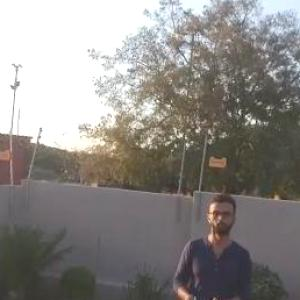follow: (158, 191, 255, 299)
